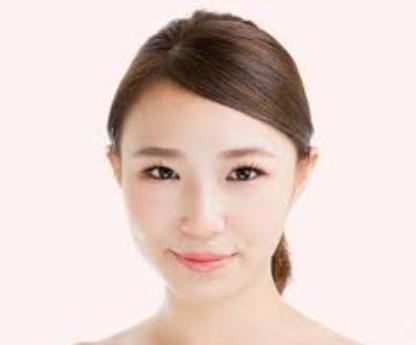person: (82, 3, 365, 345)
